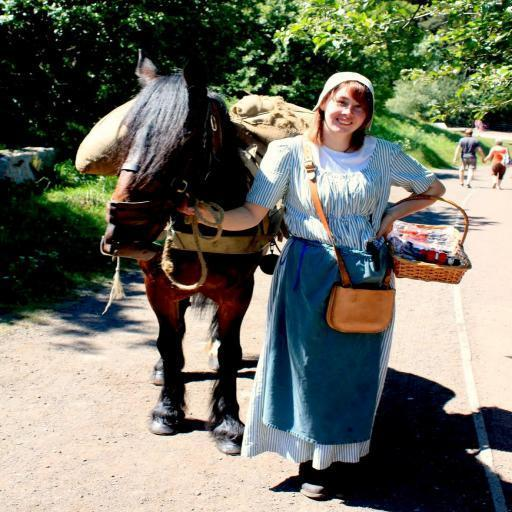horse: (102, 48, 278, 456)
